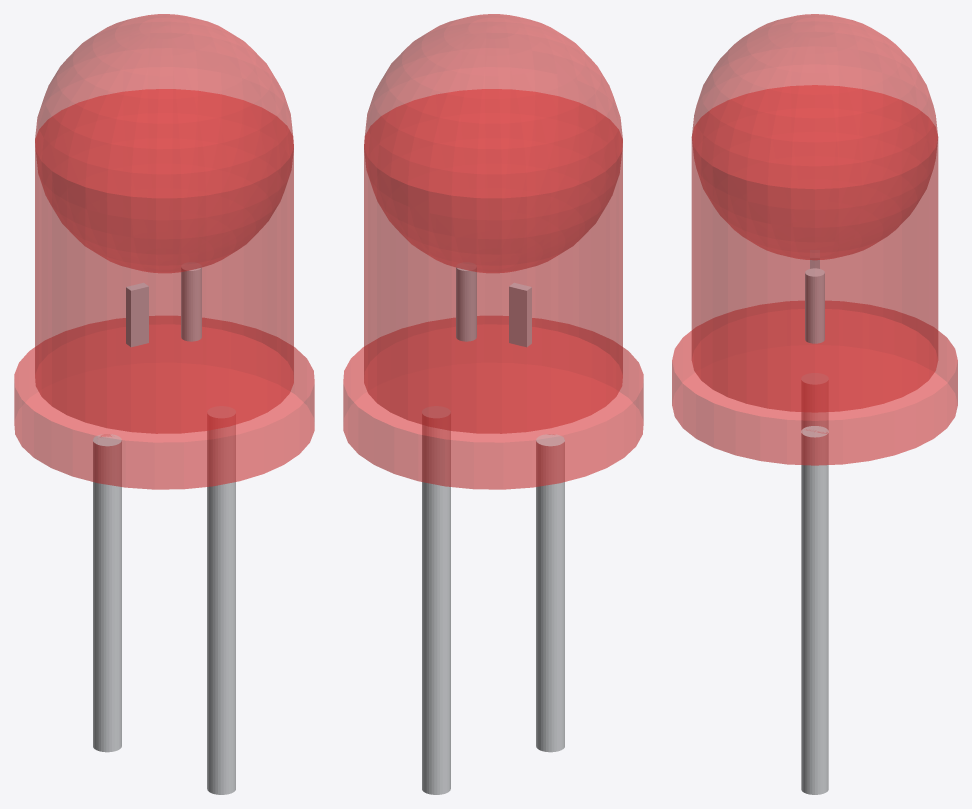
Rendered from led_5mm_red.glb.
3 views of the same model, side by side, from view 1: azimuth 30°, elevation 25°; view 2: azimuth 150°, elevation 25°; view 3: azimuth 270°, elevation 25° (orthographic). The views are drawn at different scales.
Visible parts, largest first — view 1: Cylinder.001, Sphere, Cylinder, Cylinder.003, Cylinder.004, Cylinder.002, Cube; view 2: Cylinder.001, Sphere, Cylinder, Cylinder.003, Cylinder.004, Cylinder.002, Cube; view 3: Cylinder.001, Sphere, Cylinder, Cylinder.003, Cylinder.002, Cylinder.004.
Boxes of the visible parts, x1=… form: Cylinder.001: x1=35, y1=89, x2=293, y2=433; Sphere: x1=35, y1=14, x2=293, y2=272; Cylinder: x1=14, y1=316, x2=314, y2=489; Cylinder.003: x1=207, y1=406, x2=235, y2=794; Cylinder.004: x1=93, y1=434, x2=121, y2=752; Cylinder.002: x1=181, y1=262, x2=201, y2=341; Cube: x1=126, y1=283, x2=148, y2=347; Cylinder.001: x1=364, y1=89, x2=622, y2=433; Sphere: x1=364, y1=14, x2=622, y2=272; Cylinder: x1=343, y1=316, x2=643, y2=489; Cylinder.003: x1=422, y1=406, x2=450, y2=794; Cylinder.004: x1=536, y1=434, x2=564, y2=752; Cylinder.002: x1=456, y1=262, x2=476, y2=341; Cube: x1=509, y1=283, x2=531, y2=347; Cylinder.001: x1=691, y1=85, x2=938, y2=412; Sphere: x1=691, y1=14, x2=938, y2=259; Cylinder: x1=672, y1=301, x2=957, y2=465; Cylinder.003: x1=801, y1=426, x2=828, y2=794; Cylinder.002: x1=805, y1=268, x2=824, y2=343; Cylinder.004: x1=801, y1=373, x2=828, y2=429.
Bounding box in the file's own units: 0.0058 × 0.0165 × 0.0058.
